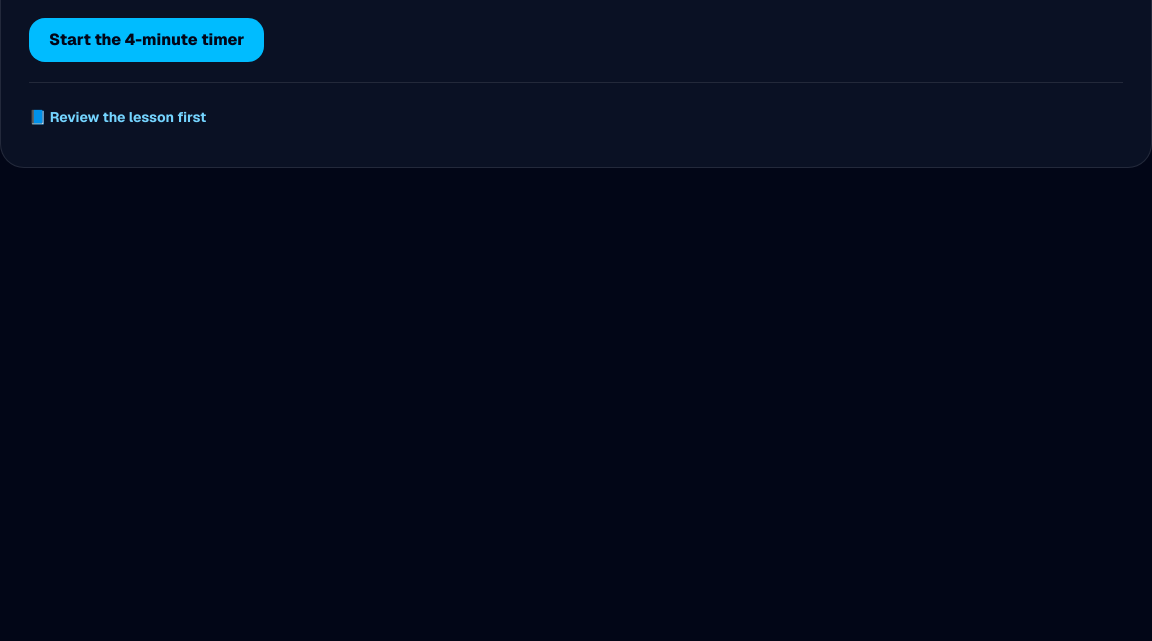
ScenarioPlay records once when the result shows › interview
The image size is (1152, 641).
Later steps or results of the test are not shown.
Click the button "Start the 4-minute timer": x=147, y=40 [29,18,264,62]
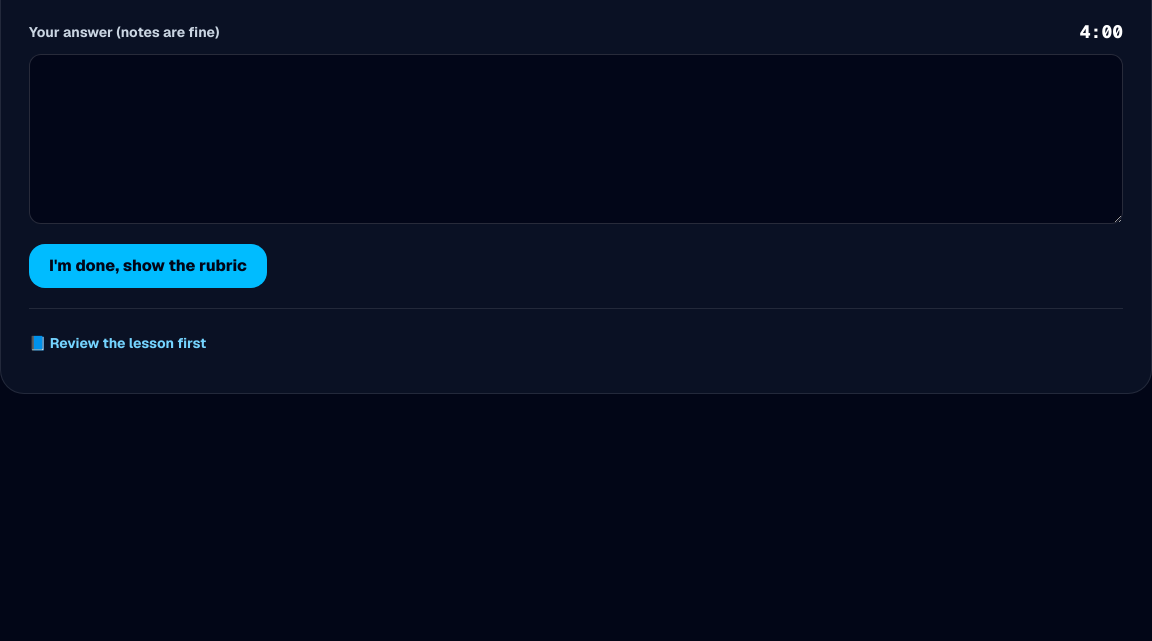
Click the button "I'm done, show the rubric": x=148, y=266 [29,244,267,288]
(page scrolled)
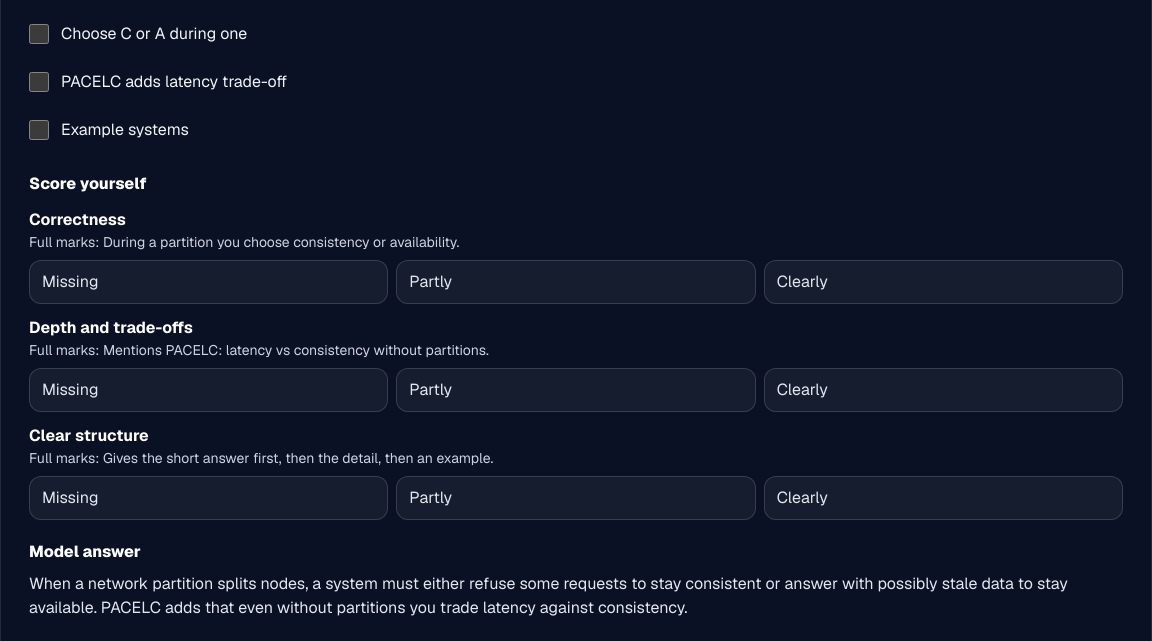
Click the 1st button "Partly": x=431, y=281 [396,260,756,304]
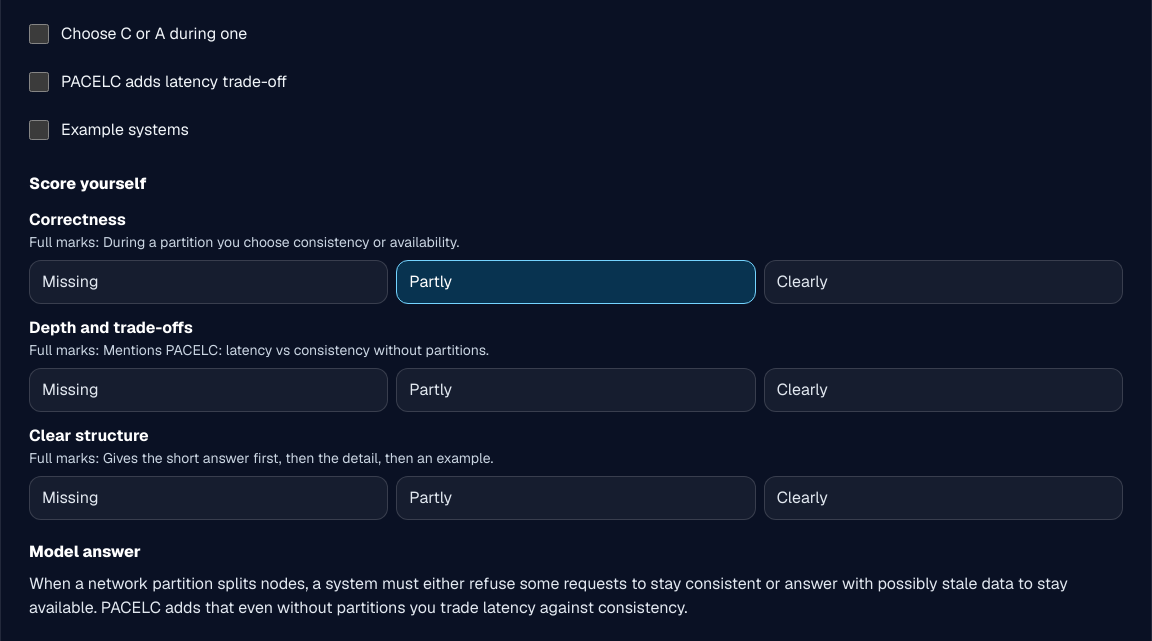
Click the button "Partly" below "Depth and trade-offs": x=431, y=389 [396,368,756,412]
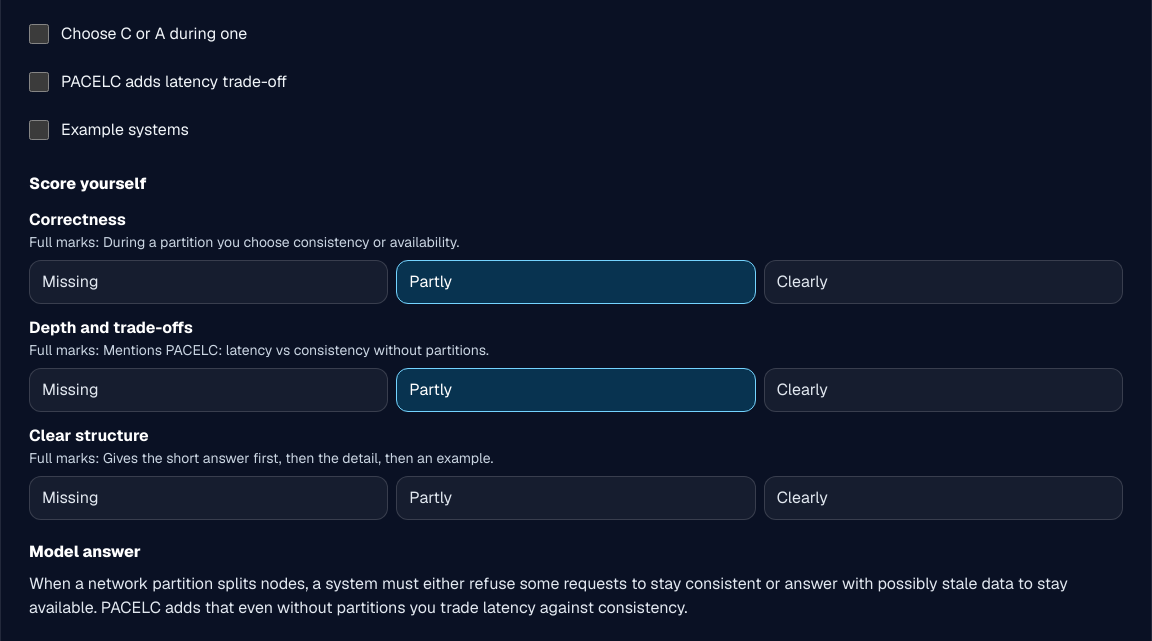
Click the button "Partly" below "Clear structure": x=431, y=497 [396,476,756,520]
(page scrolled)
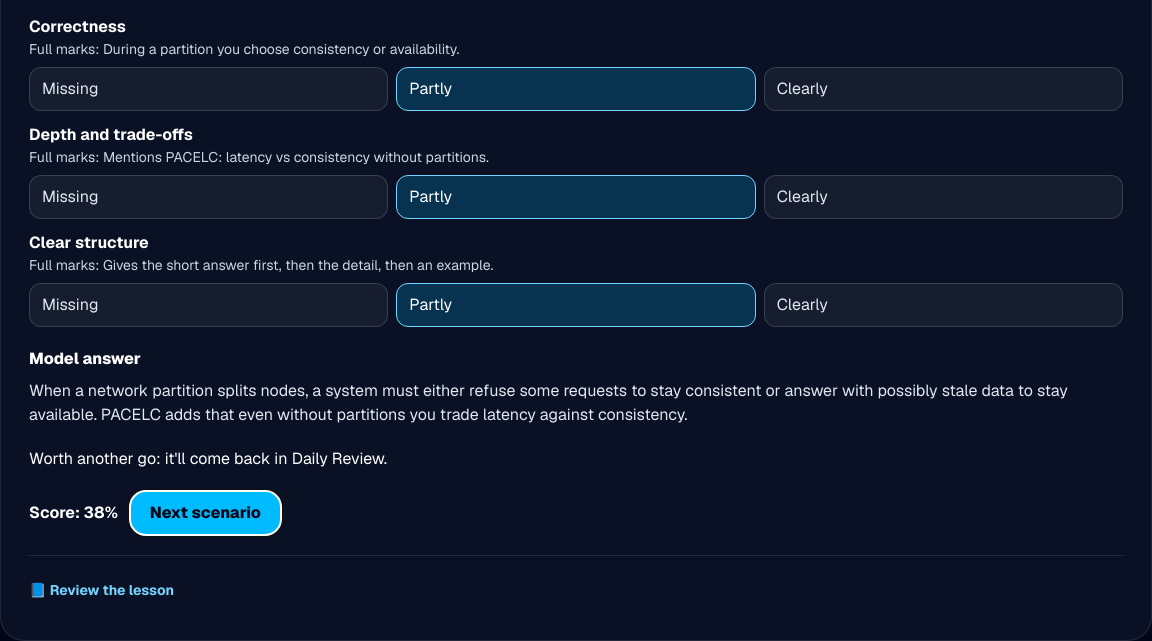
Now the button "Next scenario" is shown, box [130,491,281,535]
